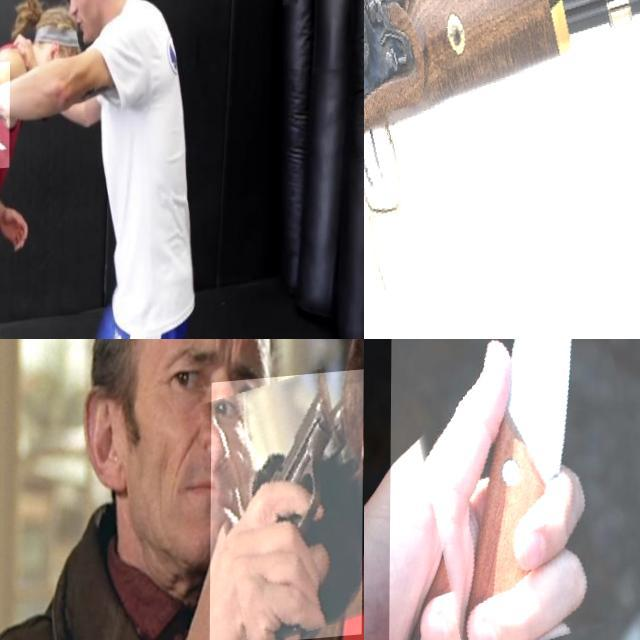-: (389, 339, 640, 640), (0, 66, 40, 178)
gun-knife-thesis - v11 Yolov5 augmented: (364, 0, 640, 339), (210, 376, 364, 640)
